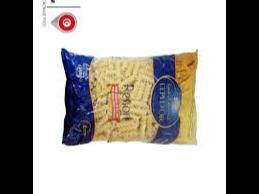Ressort: (61, 48, 198, 143)
